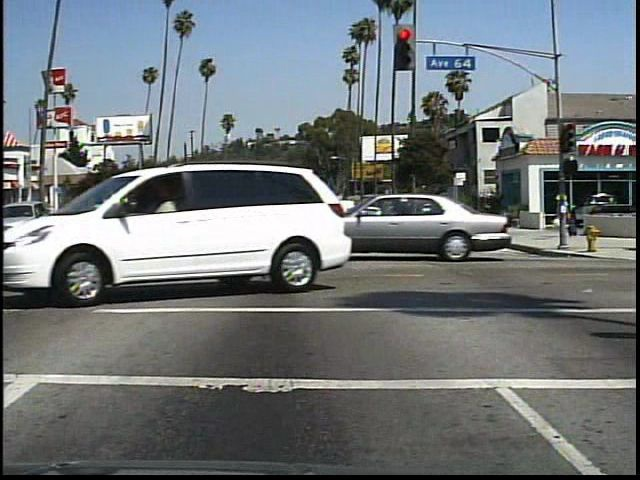person: (550, 188, 577, 236)
